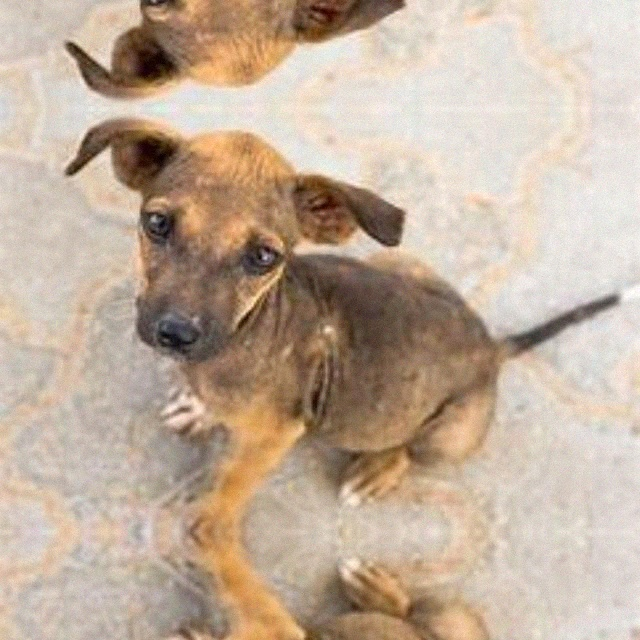dog: (104, 120, 578, 531), (104, 530, 578, 640), (104, 0, 578, 95)
